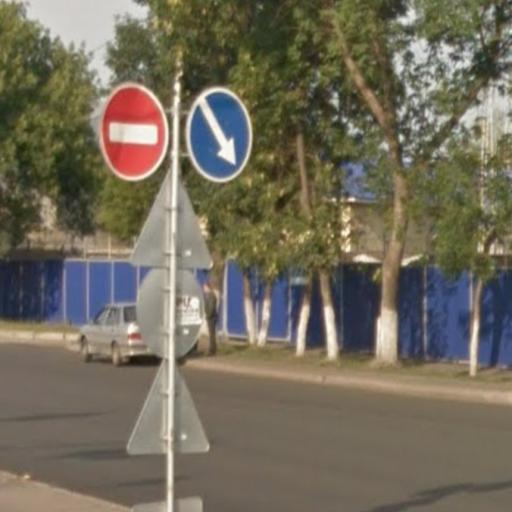traffic_sign: (94, 80, 175, 187)
